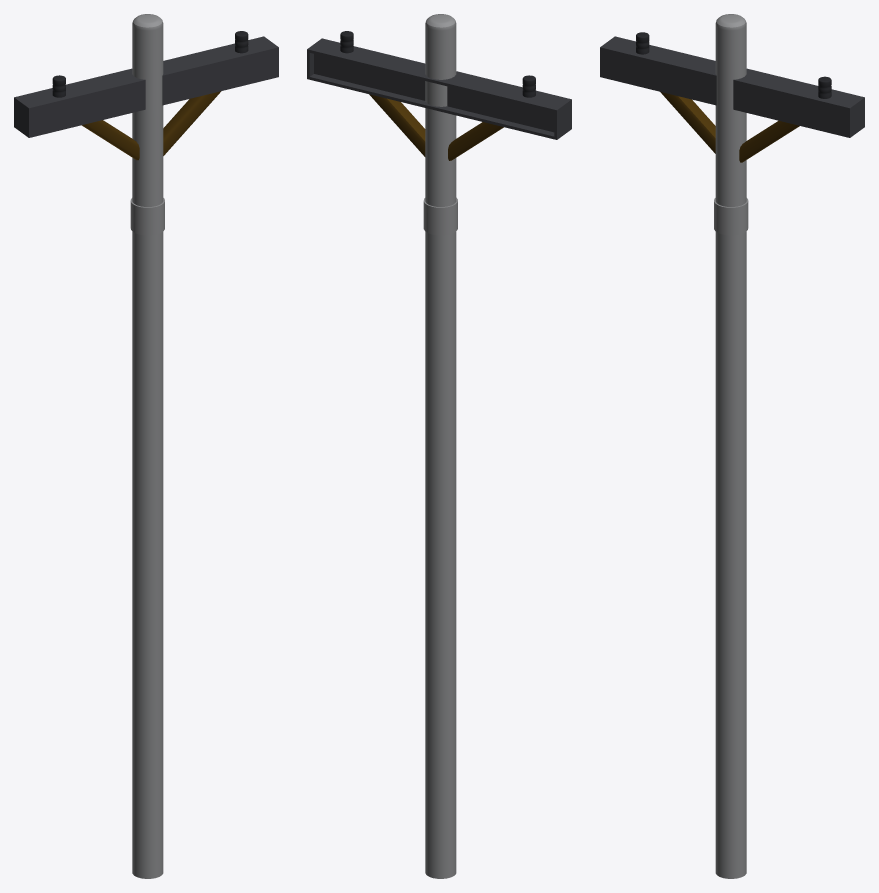
Rendered from dianxianggang.fbx.
3 views of the same model, side by side, from view 1: azimuth 30°, elevation 25°; view 2: azimuth 150°, elevation 25°; view 3: azimuth 330°, elevation 25° (orthographic).
Visible parts, largest first — view 1: pCylinder5; view 2: pCylinder5; view 3: pCylinder5.
Boxes of the visible parts, bbox=[...] form: pCylinder5: bbox=[14, 14, 278, 878]; pCylinder5: bbox=[307, 14, 571, 878]; pCylinder5: bbox=[600, 14, 864, 878].
Size of the model in its own units: 18.42 by 60.12 by 2.23.
